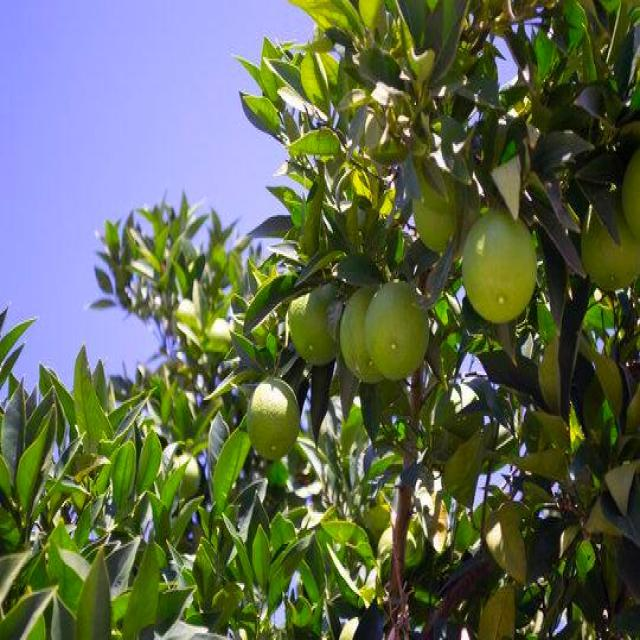Jeruk Belum Matang: (461, 210, 538, 324), (365, 275, 429, 377), (408, 172, 482, 255), (578, 197, 640, 288), (339, 282, 389, 386), (244, 379, 301, 462), (286, 286, 342, 363), (618, 145, 640, 254)
